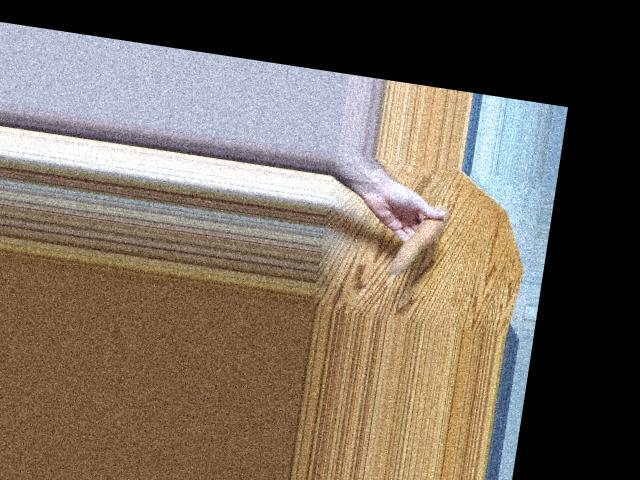sweet_potato: (388, 197, 450, 280)
